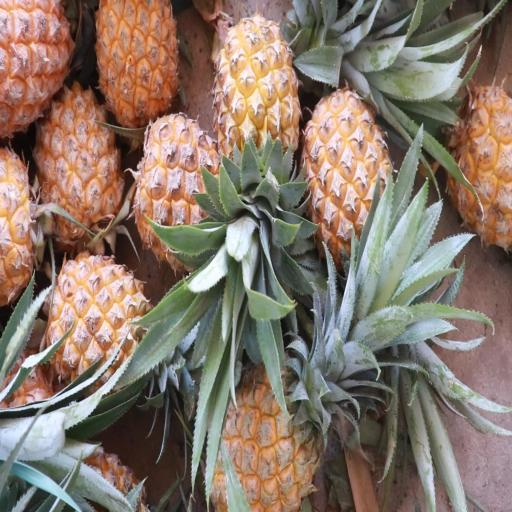Pineapple - v8 v1: (202, 345, 350, 511), (299, 81, 402, 275), (44, 246, 160, 404), (210, 13, 303, 210), (130, 111, 233, 280), (28, 78, 125, 255), (442, 81, 512, 262), (94, 2, 184, 136)
